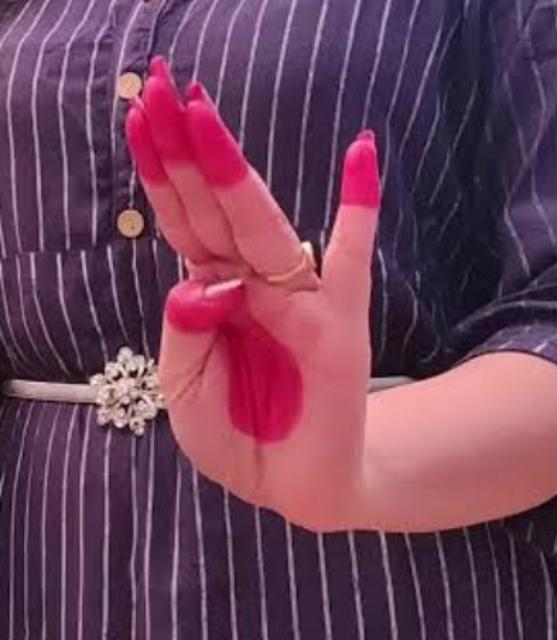chatur: (92, 56, 440, 554)
